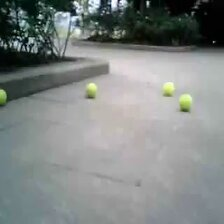tennis: (178, 94, 191, 109), (85, 82, 96, 95), (163, 82, 174, 95), (1, 89, 9, 106)
